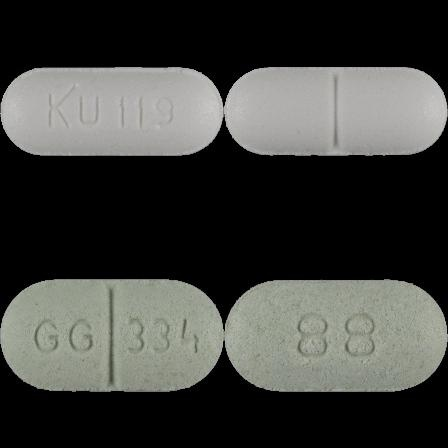35356-954: (0, 0, 224, 224)
